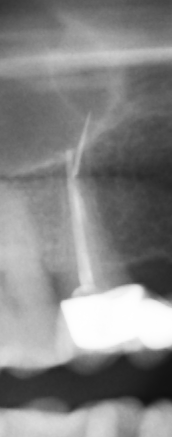fracture: (67, 113, 93, 183)
